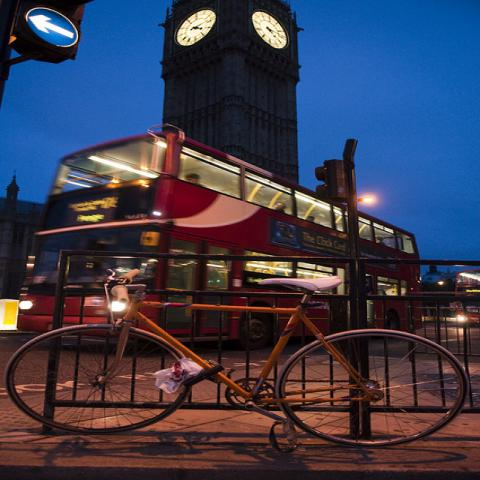bus: (15, 135, 422, 348)
